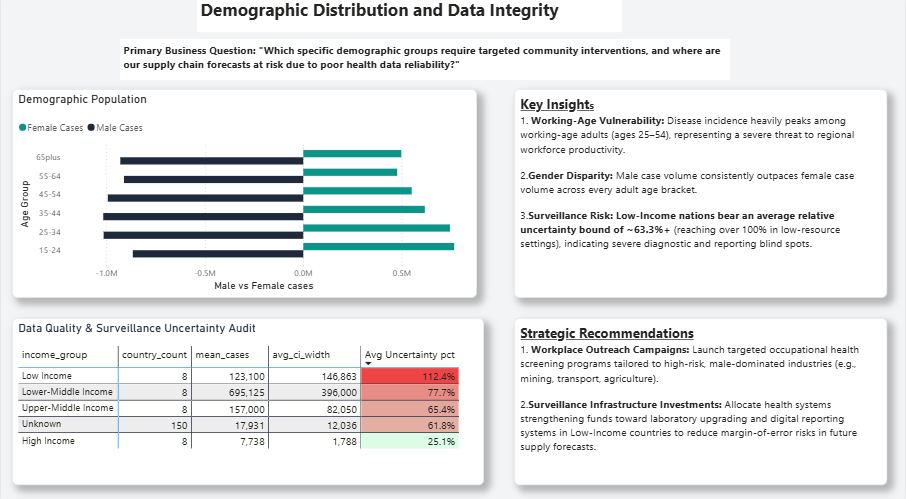

This screenshot's page, from the dashboard's own definition file:
{"tool":"powerbi","page":{"name":"Demographic Distribution & Data Integrity Audit","canvas":[1280,720],"ordinal":1},"visuals":[{"type":"clusteredBarChart","title":"Demographic Population","fields":{"Category":["public vw_pbi_demographic_pyramid.age_group"],"Y":["Sum(public vw_pbi_demographic_pyramid.female_cases)","Sum(public vw_pbi_demographic_pyramid.male_cases_pyramid)"]},"box":[15.6,134.6,659.1,296.2],"z":0},{"type":"pivotTable","title":"Data Quality & Surveillance Uncertainty Audit","fields":{"Rows":["public vw_pbi_data_quality_audit.income_group"],"Values":["Sum(public vw_pbi_data_quality_audit.country_count)","Sum(public vw_pbi_data_quality_audit.mean_cases)","Sum(public vw_pbi_data_quality_audit.avg_ci_width)","public vw_pbi_data_quality_audit.Avg Uncertainty Pct Format"]},"box":[15.6,459.2,669,236.7],"z":1000},{"type":"textbox","box":[727.1,134.6,528.7,296.2],"z":2000},{"type":"textbox","box":[727.1,459.2,528.7,236.7],"z":3000},{"type":"textbox","box":[277.8,0,602.4,53.9],"z":4000},{"type":"textbox","box":[168.7,63.8,864.6,58.1],"z":5000}]}

Visuals, with their boxes in screenshot pixels (x1, y1, x2, y2), scaled from the page's 1280x720 canvas onto the 906x499 screenshot:
"Demographic Population" clusteredBarChart: [left=11, top=93, right=478, bottom=299]
"Data Quality & Surveillance Uncertainty Audit" pivotTable: [left=11, top=318, right=485, bottom=482]
textbox: [left=515, top=93, right=889, bottom=299]
textbox: [left=515, top=318, right=889, bottom=482]
textbox: [left=197, top=0, right=623, bottom=37]
textbox: [left=119, top=44, right=731, bottom=84]
